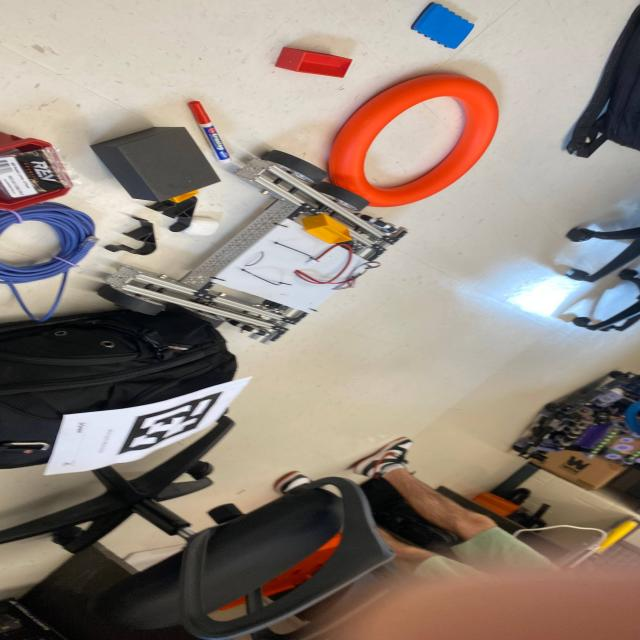red-specimen: (275, 47, 352, 78)
yellow-specimen: (302, 214, 352, 244), (171, 190, 198, 203)
